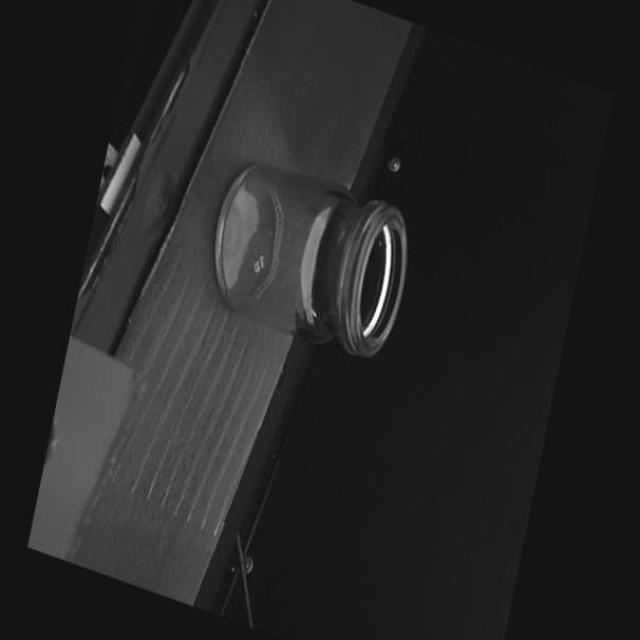defect: (306, 296, 319, 319)
glass: (200, 146, 418, 371)
